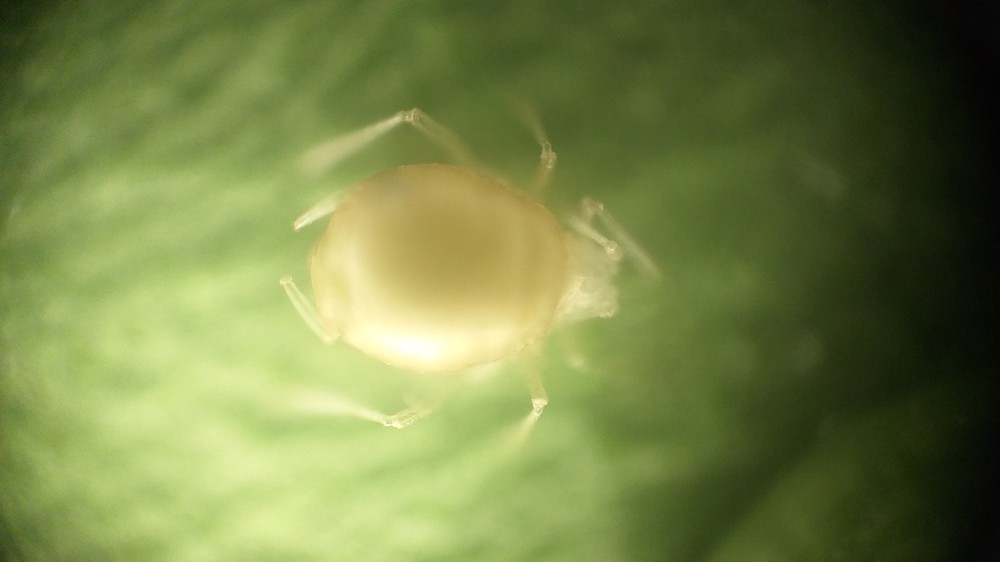Pulgon: (242, 81, 681, 499)
